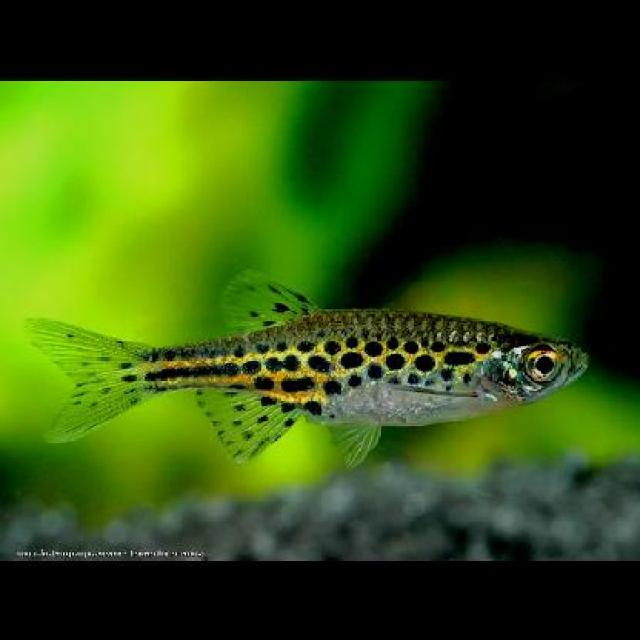ZebraFish: (24, 262, 588, 458)
